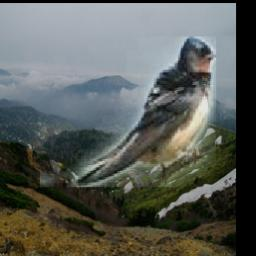Swallow: (41, 37, 217, 188)
